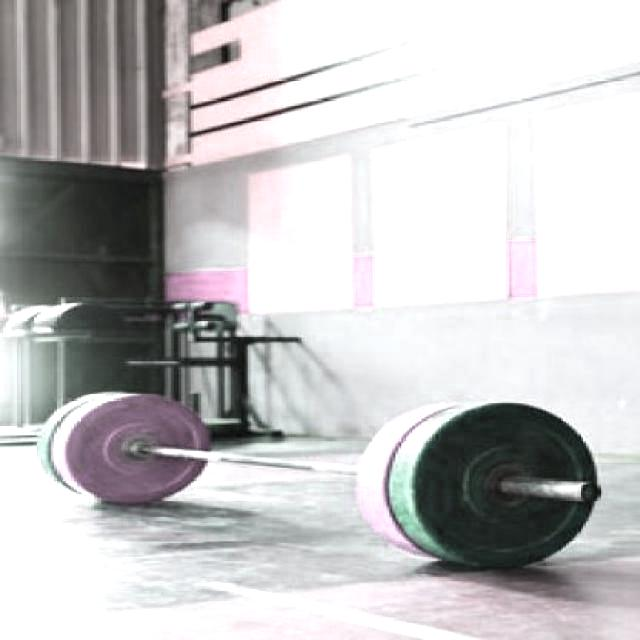barbell: (350, 384, 620, 587)
